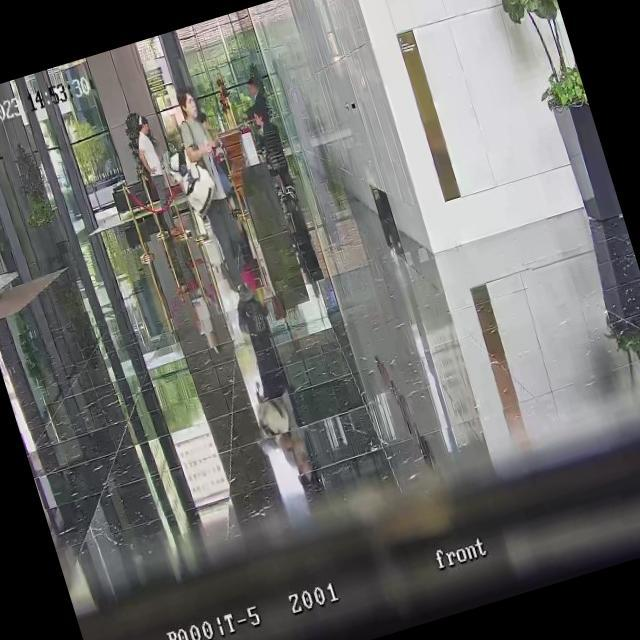person: (166, 81, 264, 297), (127, 113, 185, 242), (198, 110, 242, 218), (248, 104, 284, 172), (234, 76, 270, 130)
